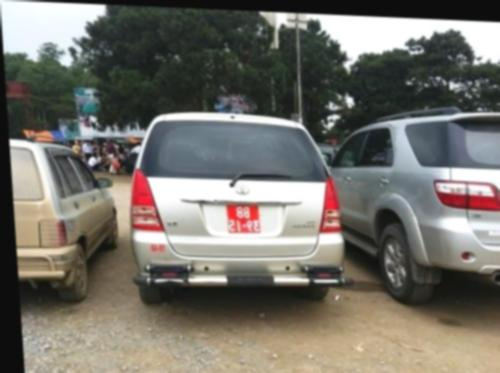License_Plate: (224, 200, 262, 238)
